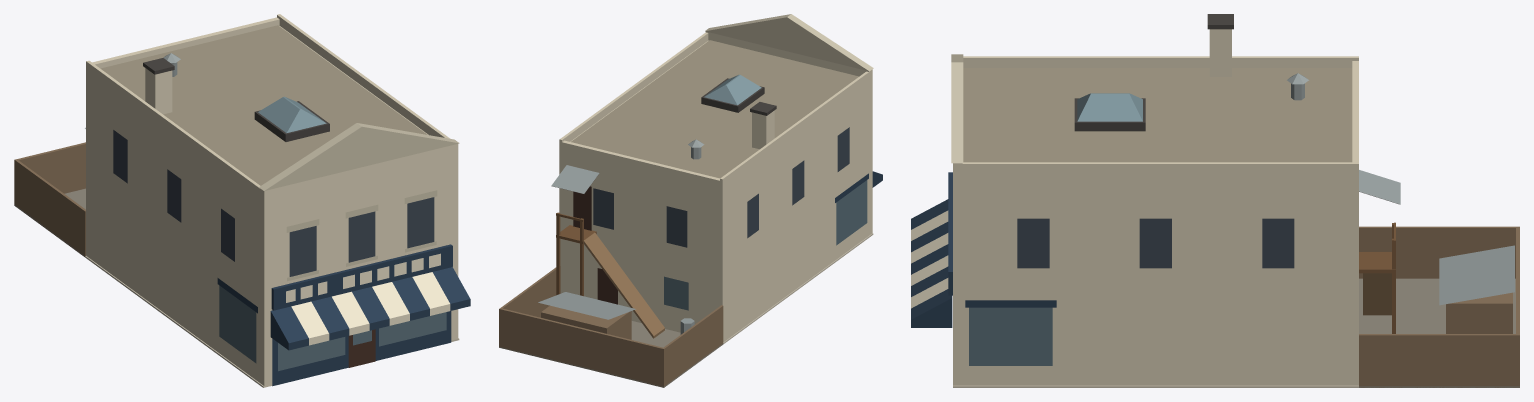
Rendered from shop_wc.glb.
3 renders of one model, left to right at view 1: azimuth 30°, elevation 25°; view 2: azimuth 150°, elevation 25°; view 3: azimuth 270°, elevation 25°, orthographic. The views are drawn at different scales.
Visible parts, largest first — view 1: shop_wc; view 2: shop_wc; view 3: shop_wc.
Boxes of the visible parts, <box> form: shop_wc: <box>14,14,470,387</box>; shop_wc: <box>499,14,882,387</box>; shop_wc: <box>911,14,1519,387</box>.
Bounding box in the file's own units: 18 × 20.89 × 42.52.
